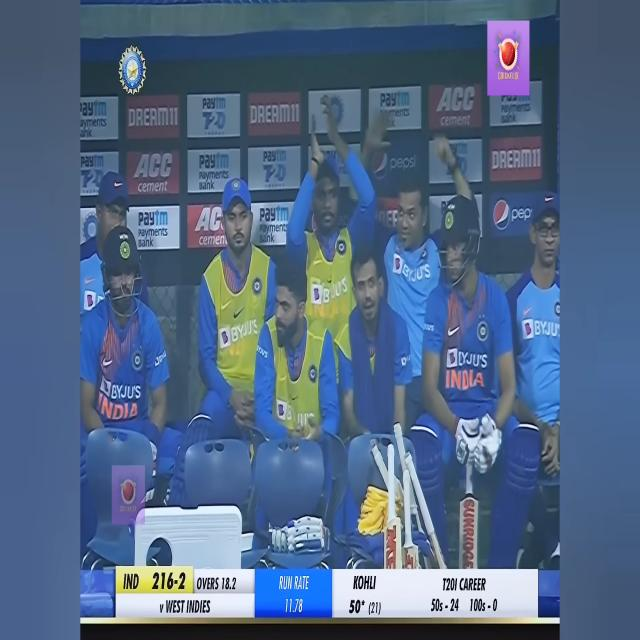fully_visible: (378, 86, 411, 110), (136, 206, 170, 228), (258, 202, 290, 224), (200, 89, 228, 114), (259, 144, 292, 164), (194, 154, 236, 169), (80, 152, 106, 169)
partially_visible: (81, 94, 108, 122)
